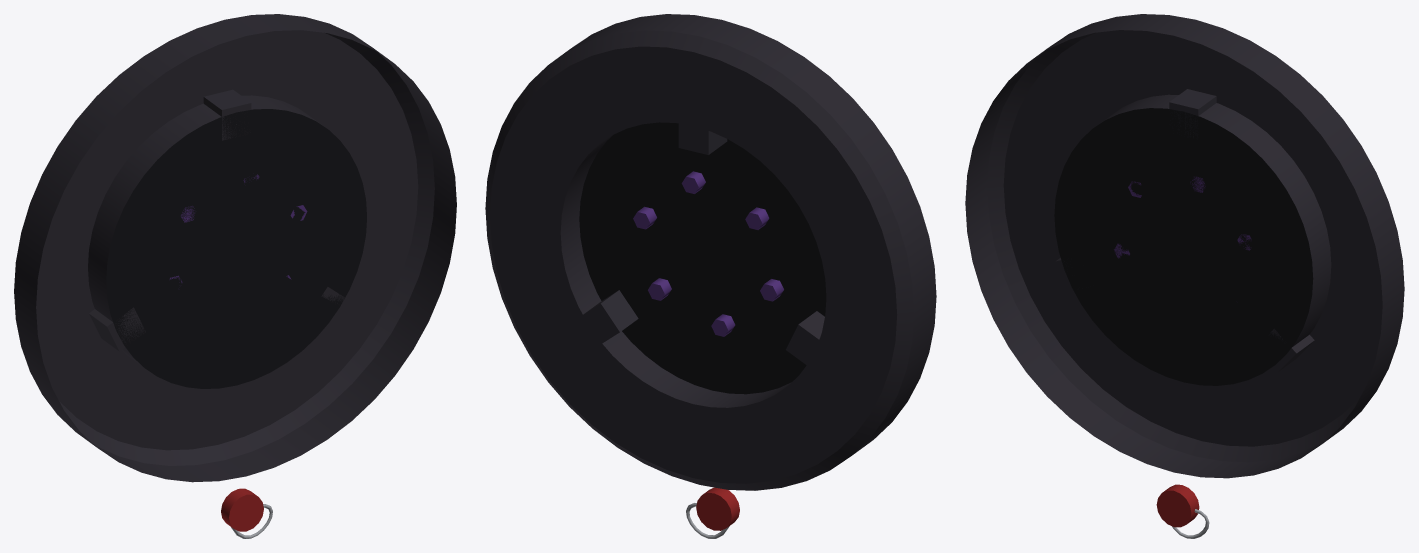
File: z05_socket.obj
3 views of the same model, side by side, from view 1: azimuth 30°, elevation 25°; view 2: azimuth 150°, elevation 25°; view 3: azimuth 330°, elevation 25° (orthographic). The views are drawn at different scales.
Visible parts, largest first — view 1: z05_socket; view 2: z05_socket; view 3: z05_socket.
Boxes of the visible parts, x1,y1,x2,y2 form: z05_socket: (14,14,456,538); z05_socket: (485,14,936,538); z05_socket: (965,14,1404,538).
Size of the model in its own units: 0.6 by 0.6925 by 0.0695.
